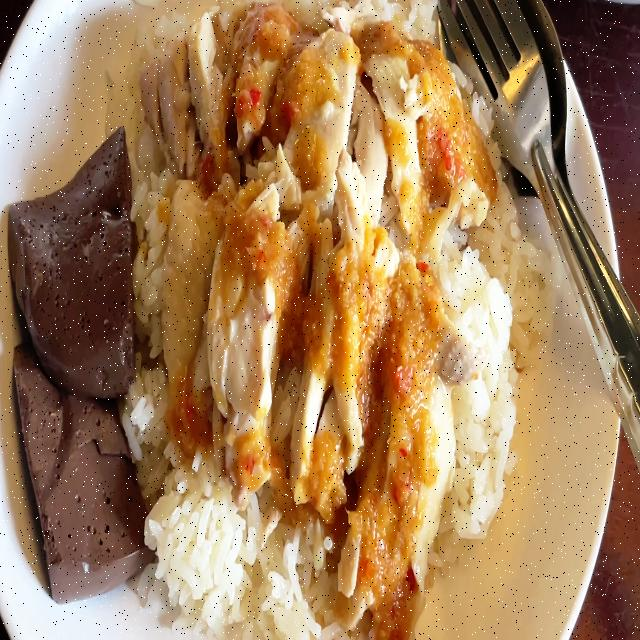boiled_chicken: (148, 58, 459, 514)
boiled_chicken_blood_jelly: (12, 336, 145, 590), (10, 134, 134, 404)
chicken_rice: (0, 0, 547, 640)
